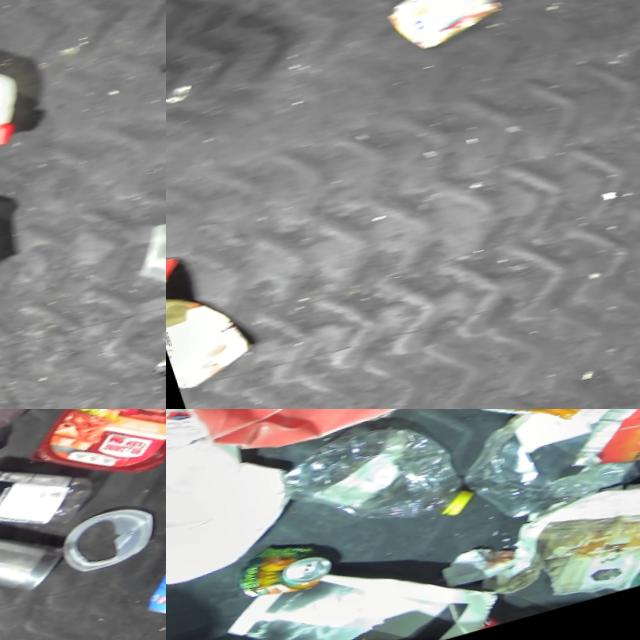can: (216, 529, 331, 606), (45, 502, 158, 577), (374, 0, 506, 56), (546, 409, 640, 481), (0, 516, 66, 612), (114, 518, 166, 626), (166, 624, 272, 640)
milk_jug: (166, 447, 311, 596), (166, 409, 248, 530), (0, 39, 29, 174)
non_white_jug: (166, 409, 473, 469)
plastic_bottle: (256, 409, 474, 559), (0, 429, 100, 564)
